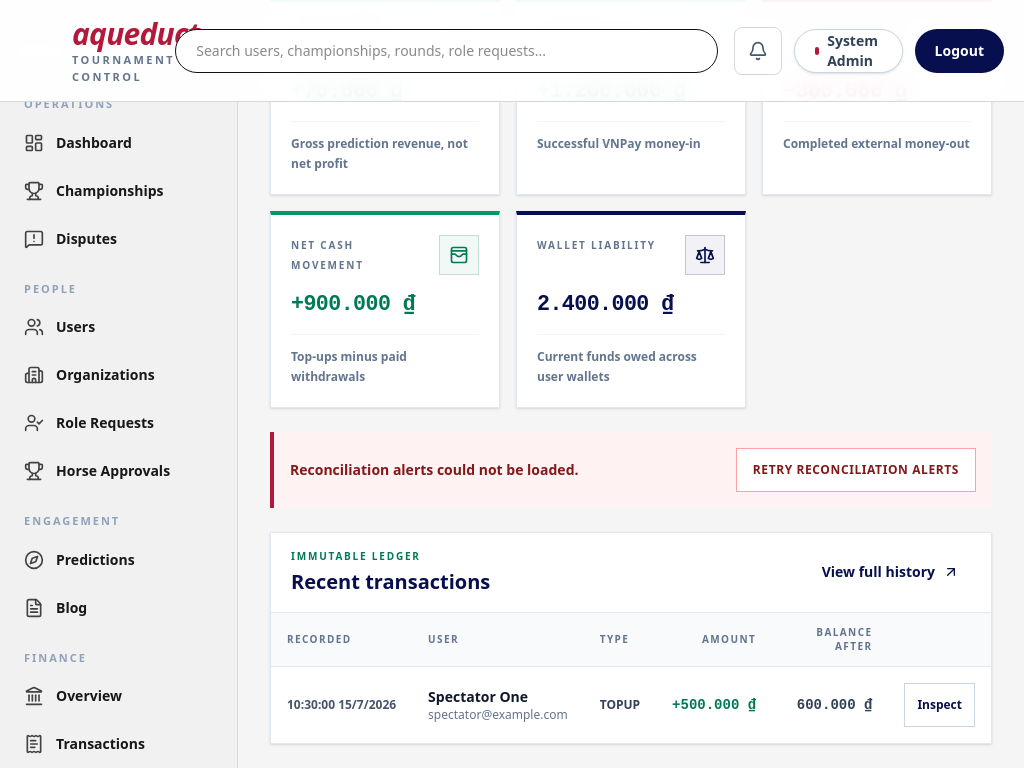
Test: AdminFinanceOverviewPage › keeps successful sections visible and retries only a failed alert section
The width and height of the screenshot is (1024, 768).
(page scrolled)
Expected: the text "Gross gaming revenue" is shown, [291,25,391,59]
Expected: the text "Spectator One" is shown, [428,686,528,706]
Click the button "Retry reconciliation alerts". click: [856, 470]
box: [736,448,976,492]
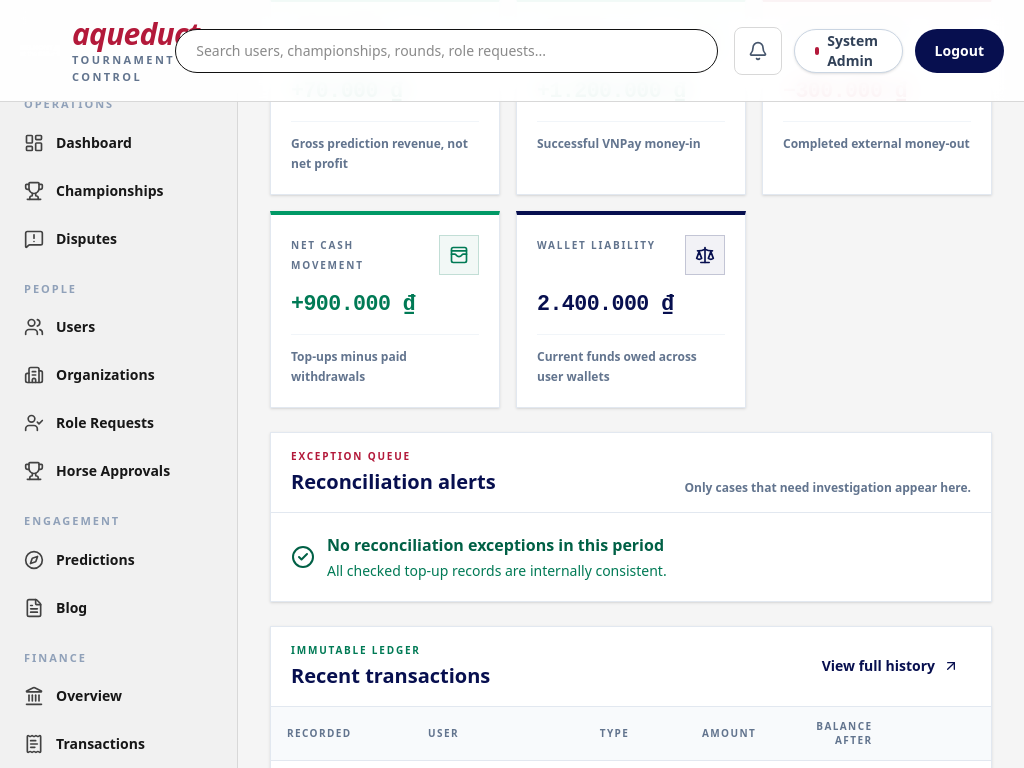
Now the text "No reconciliation exceptions in this period" is shown, box [327,533,667,557]
